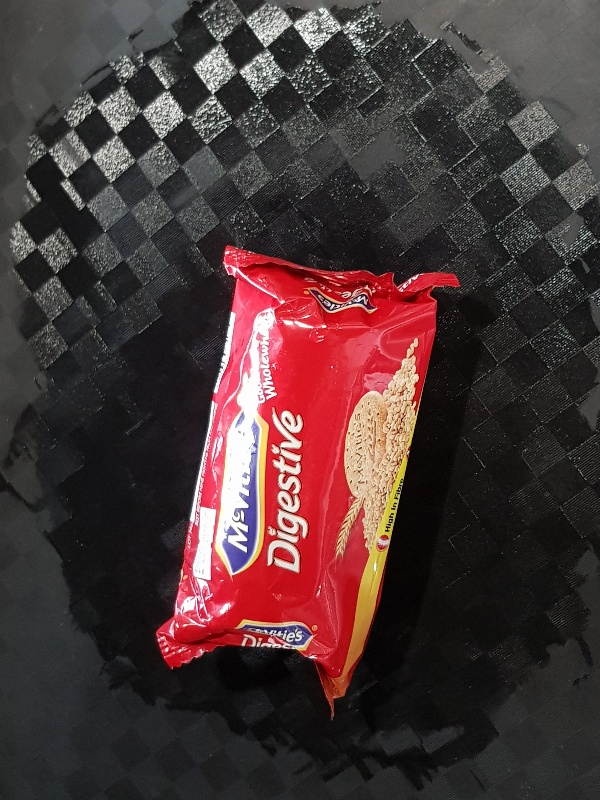Mcvitie's Digestive: (156, 239, 460, 722)
